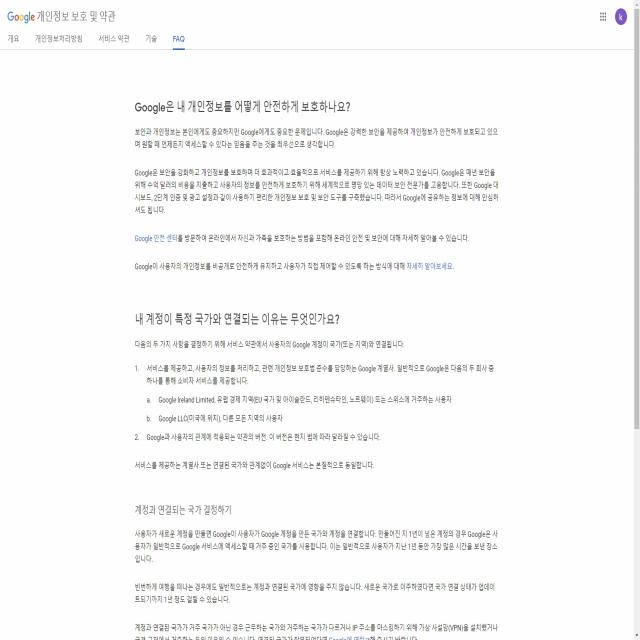menu-bar: (1, 26, 192, 53), (594, 5, 630, 28)
